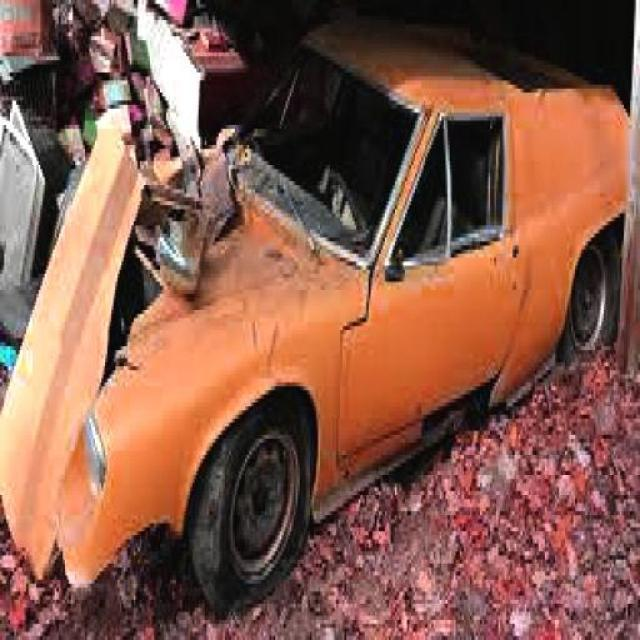Car-Damage: (0, 128, 367, 598)
